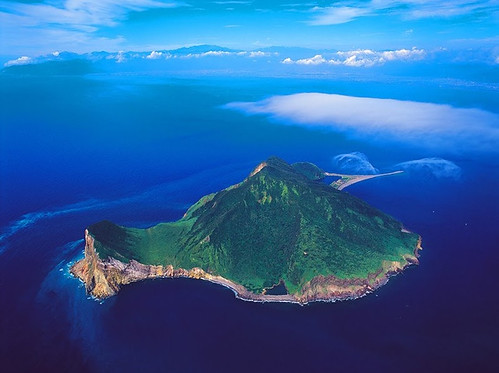turtleIslandTop: (65, 153, 434, 300)
